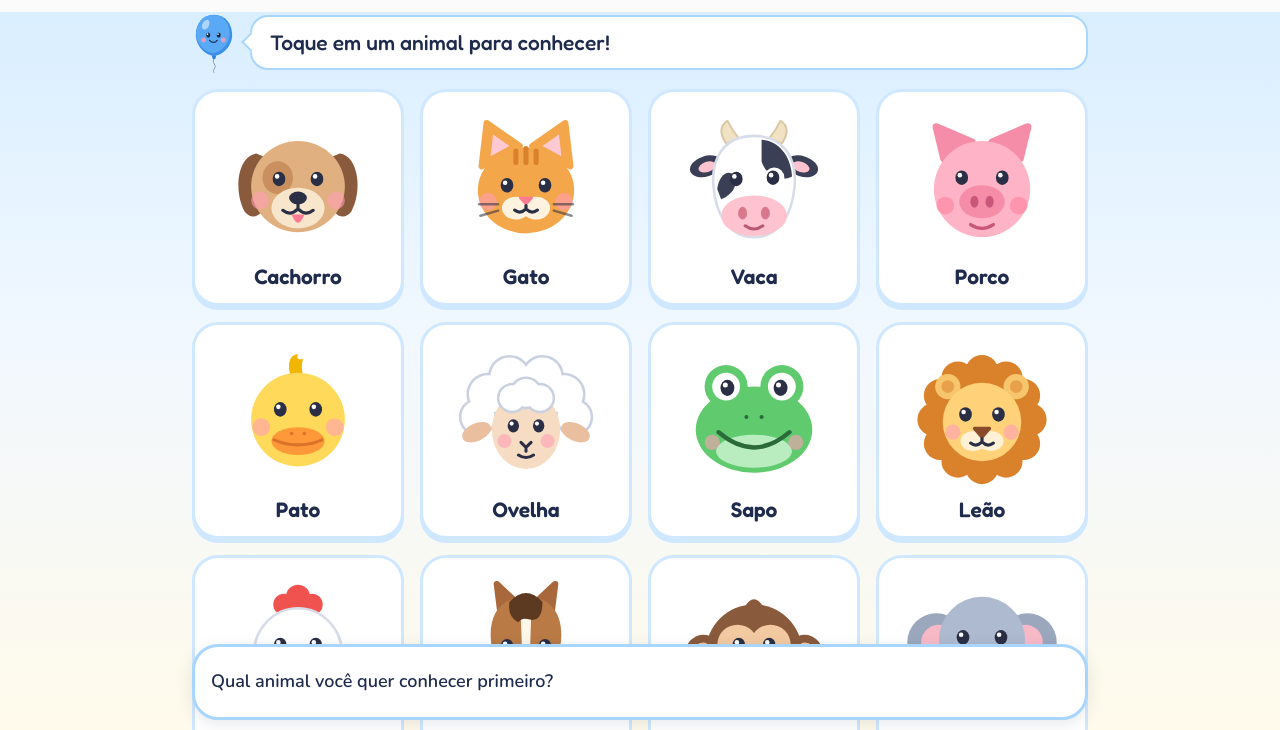
it: Descubra os Animais › tocar em um animal mostra o nome, o som escrito e uma curiosidade
Click the button "Gato": (526, 197) [420,88,632,306]
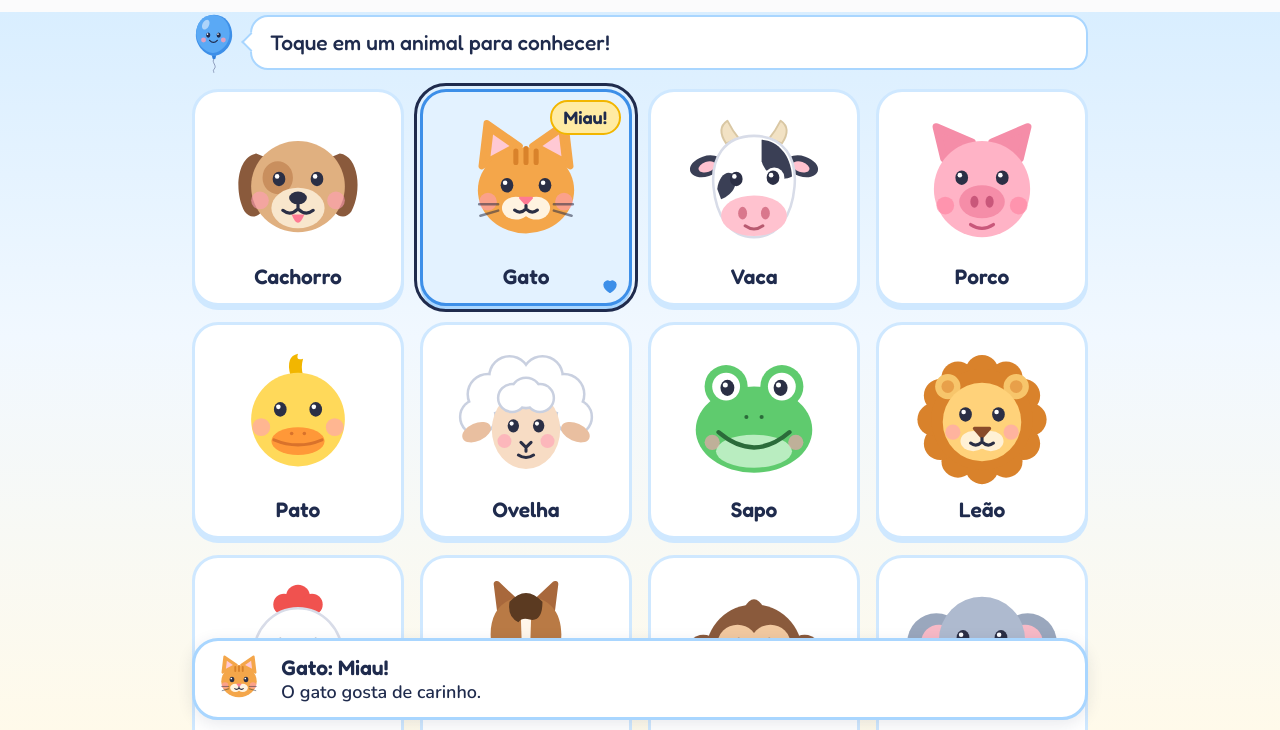
expect the message shows "Gato: Miau!": met, box [192,638,1088,720]
expect the message shows "O gato gosta de carinho.": met, box [281,680,481,704]
